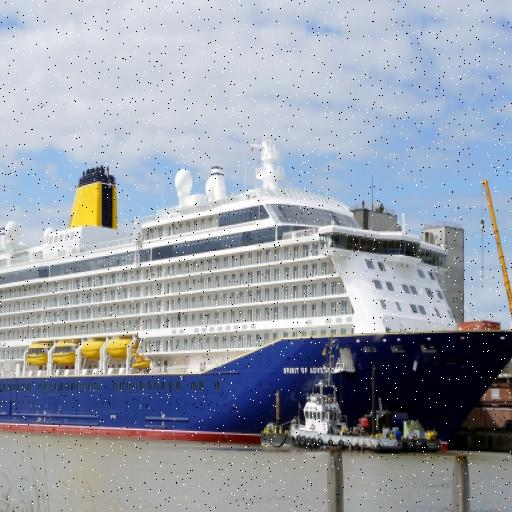cruises: (1, 135, 512, 462)
